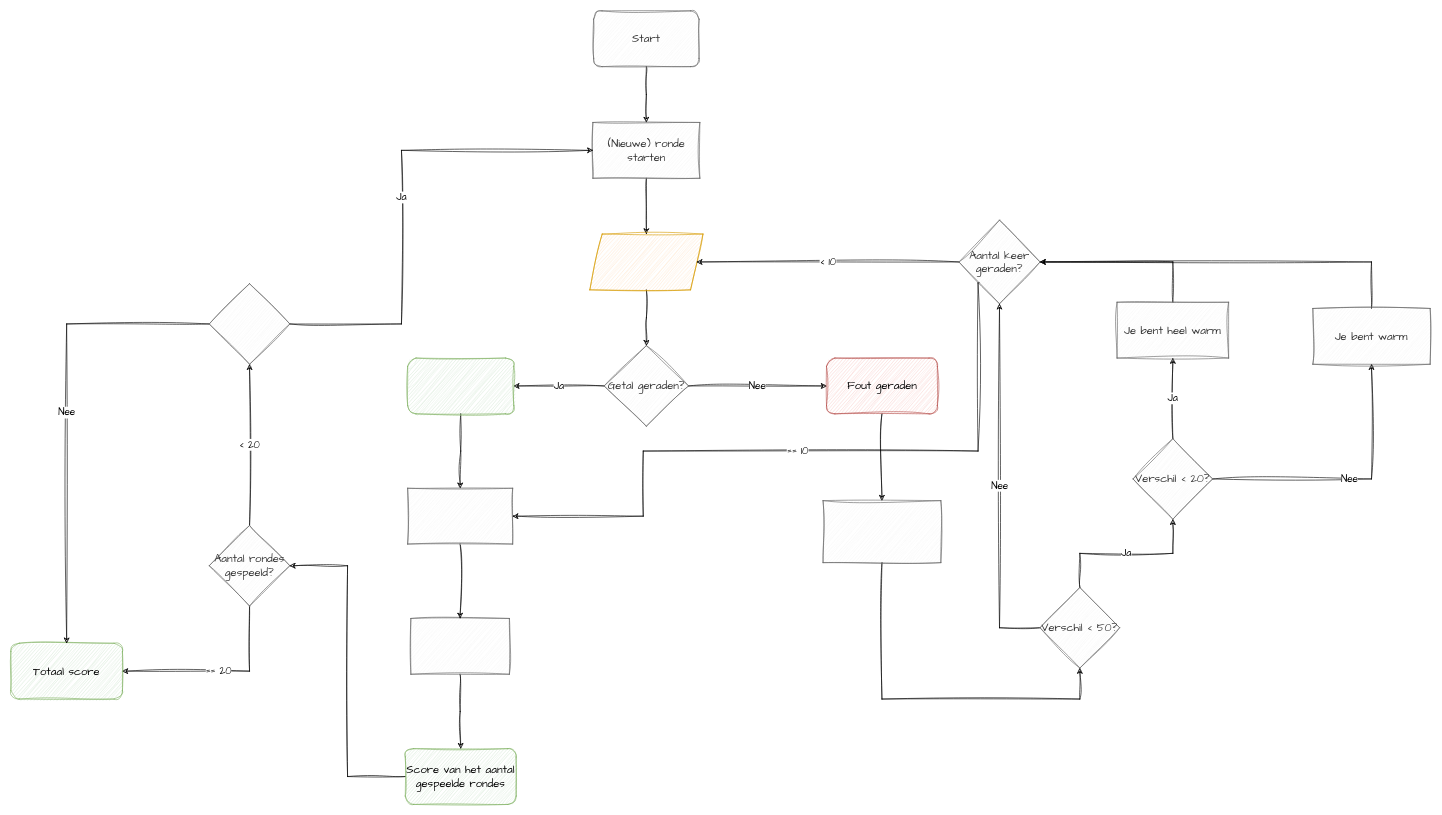
The diagram is 1442 pixels wide and 815 high, and some of its shapes have lost their labels. The shapes that lost their labels are listed below. From the top down, each one's centre as x and y in pixels, then its label:
(646,261): Getal raden tussen de 1 en de 1000
(249,323): Verder spelen?
(460,385): Goed geraden
(460,516): De ronde is afgelopen
(881,531): Hoger of lager
(459,646): Score + 1 of score + 0
